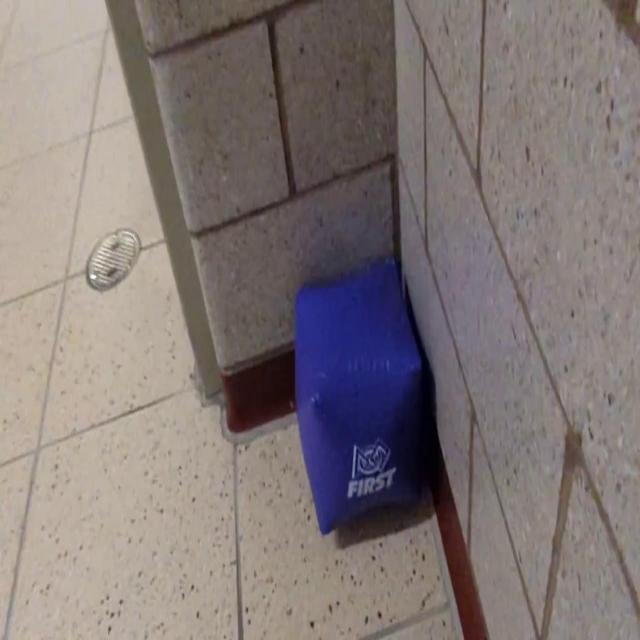frc_cube: (293, 265, 423, 533)
